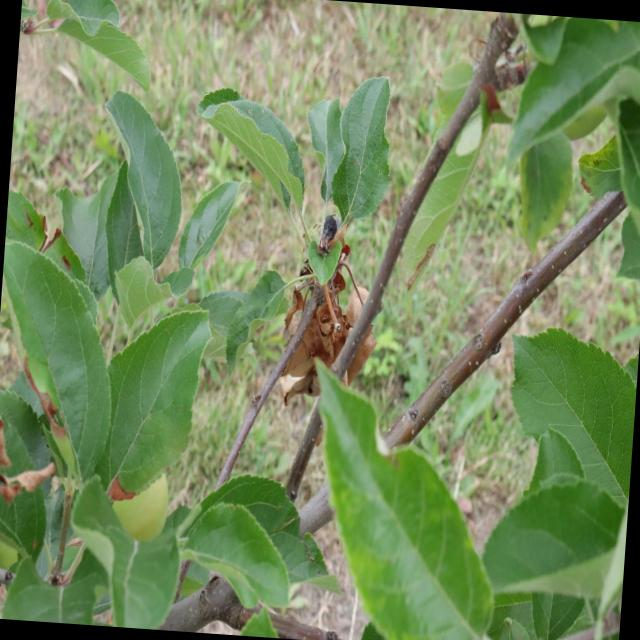-FireBlight-: (286, 222, 379, 388)
